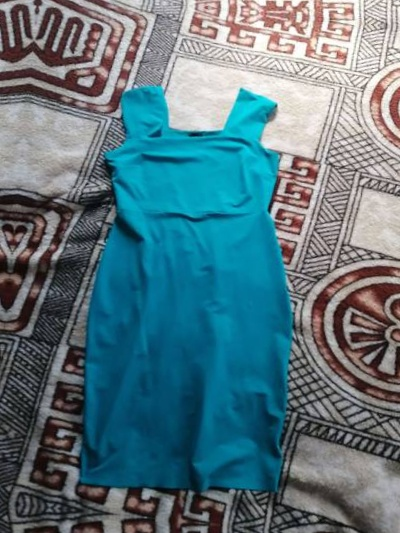Dress: (43, 66, 344, 503)
